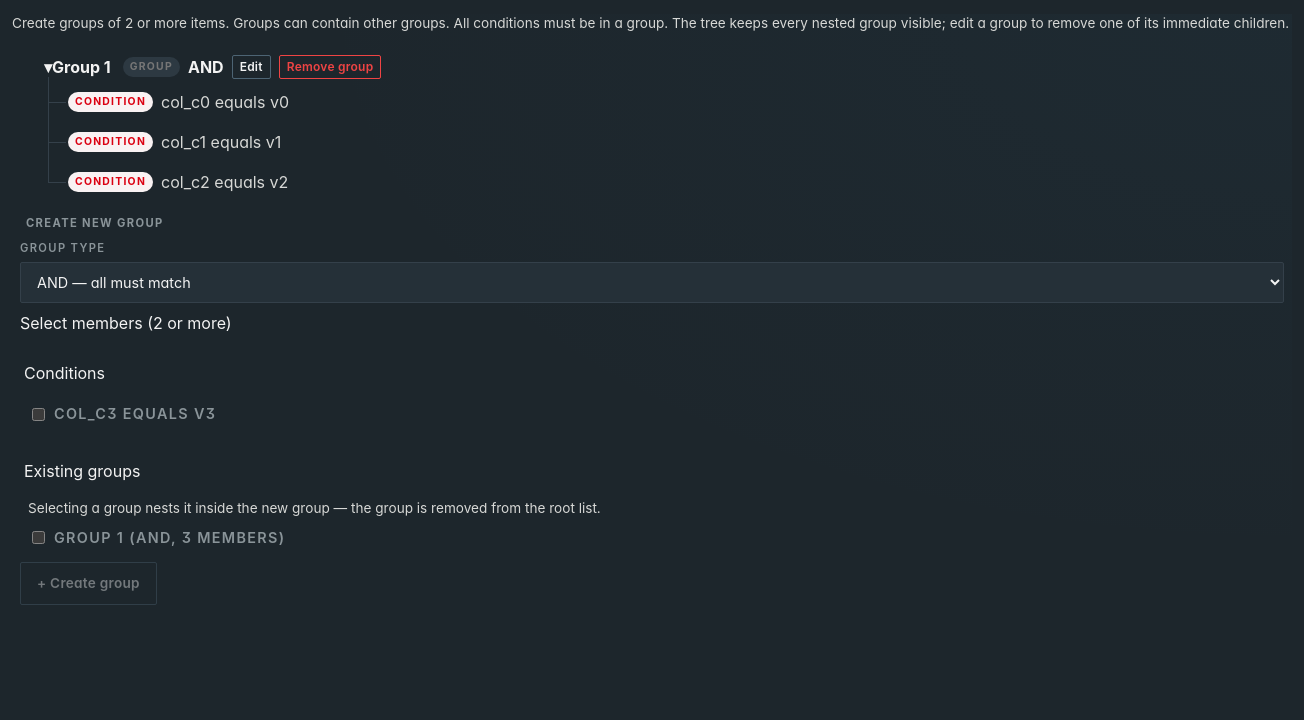
Test: GroupingTreeEditor (per_grouping) — multi-group behaviour › edits only immediate children and removes a group when fewer than two remain
Click the button with aria-label "Edit Group 1" at point(251, 67), box [232,55,271,79]
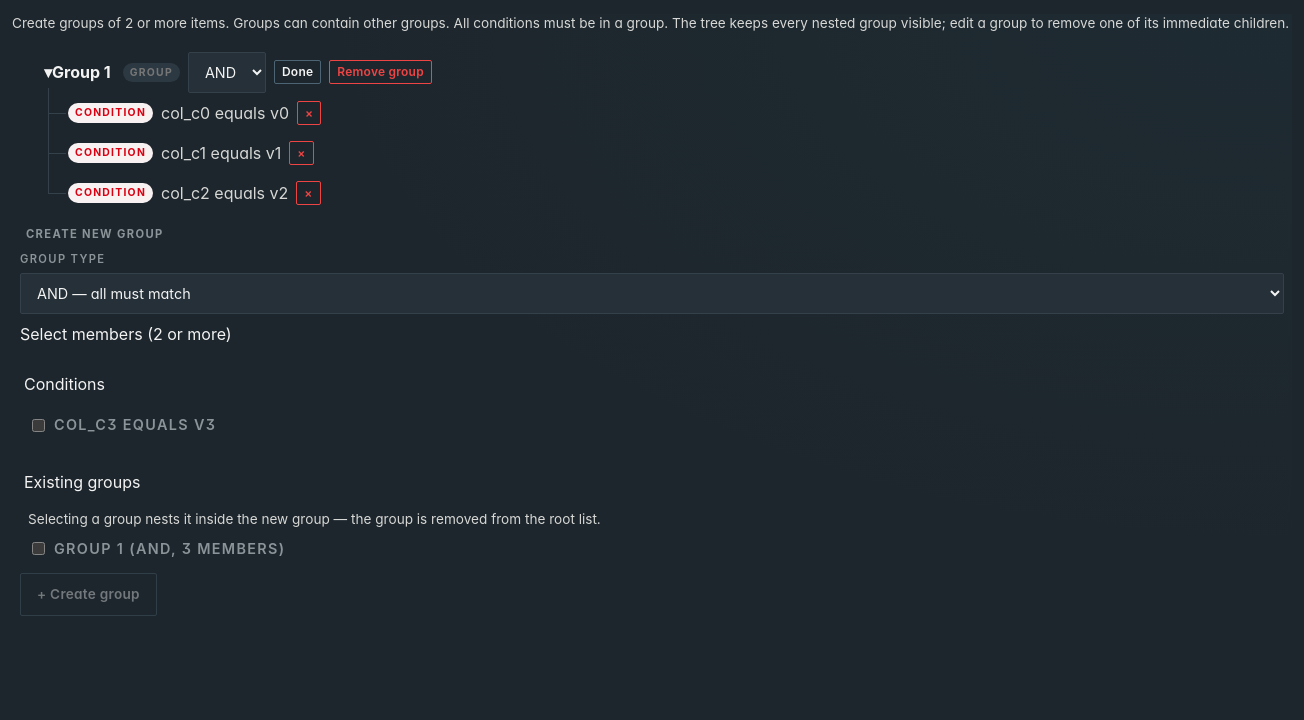
Check: the button named "Remove col_c0 equals v0 from Group 1" is shown
Check: the button named "Remove col_c1 equals v1 from Group 1" is shown, box [289,141,314,165]
Check: the button named "Remove col_c2 equals v2 from Group 1" is shown, box [296,181,321,205]
Click the button named "Remove col_c0 equals v0 from Group 1" at point(309, 113), box [297,101,321,125]
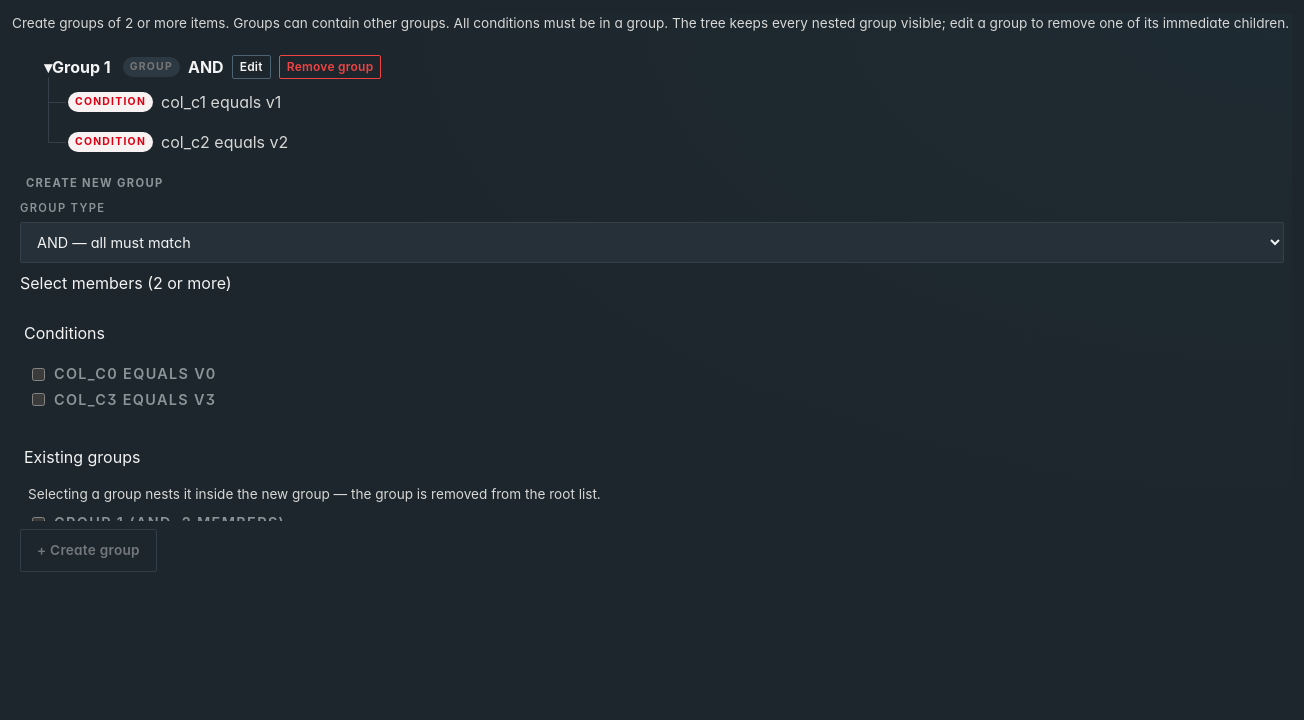
Check: the button "▾Group 1" is shown, box [40,53,115,81]
Click the button with aria-label "Edit Group 1" at point(251, 67), box [232,55,271,79]
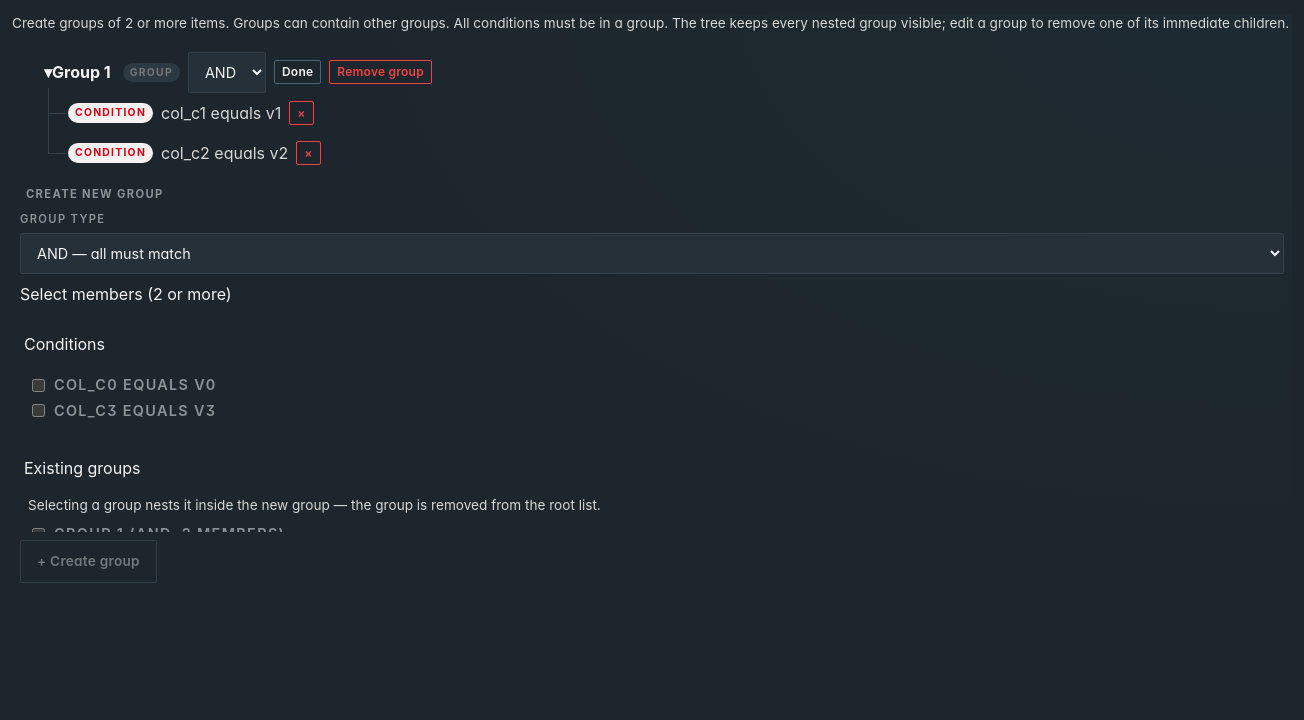
Click the button named "Remove col_c1 equals v1 from Group 1" at point(301, 113), box [289,101,314,125]
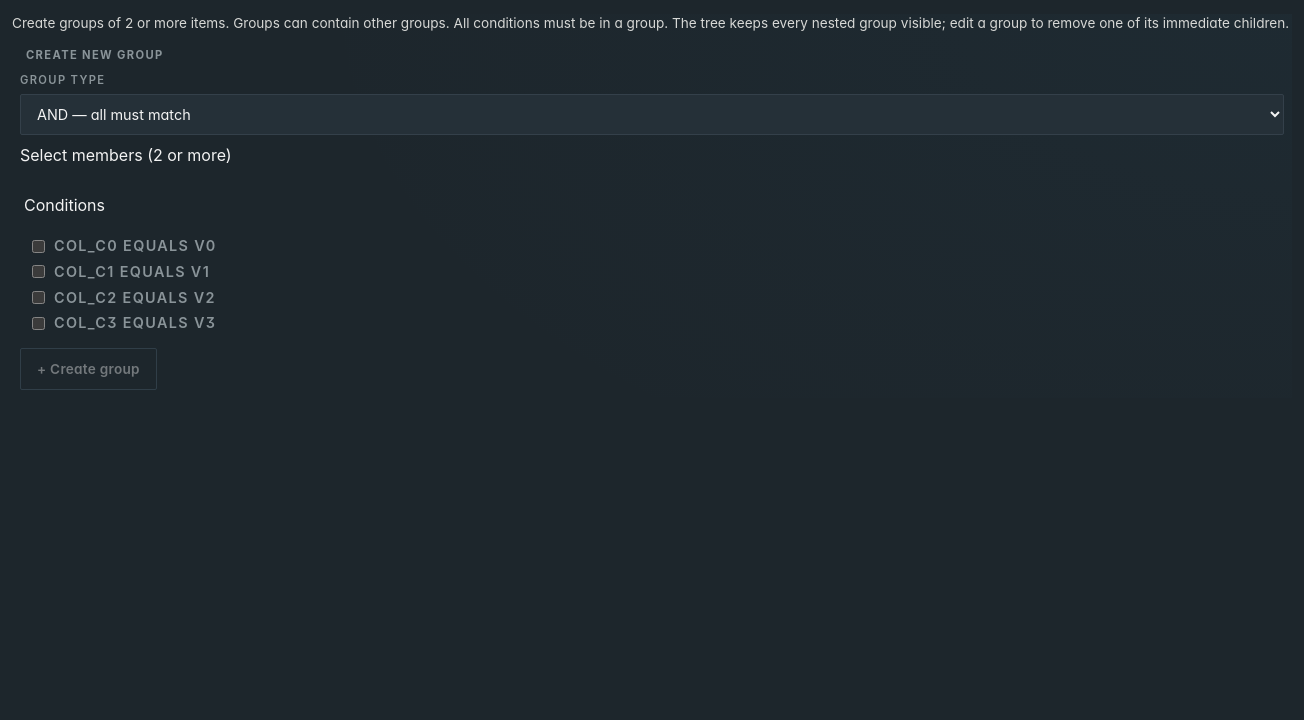
Check: the button "Group 1" is gone
